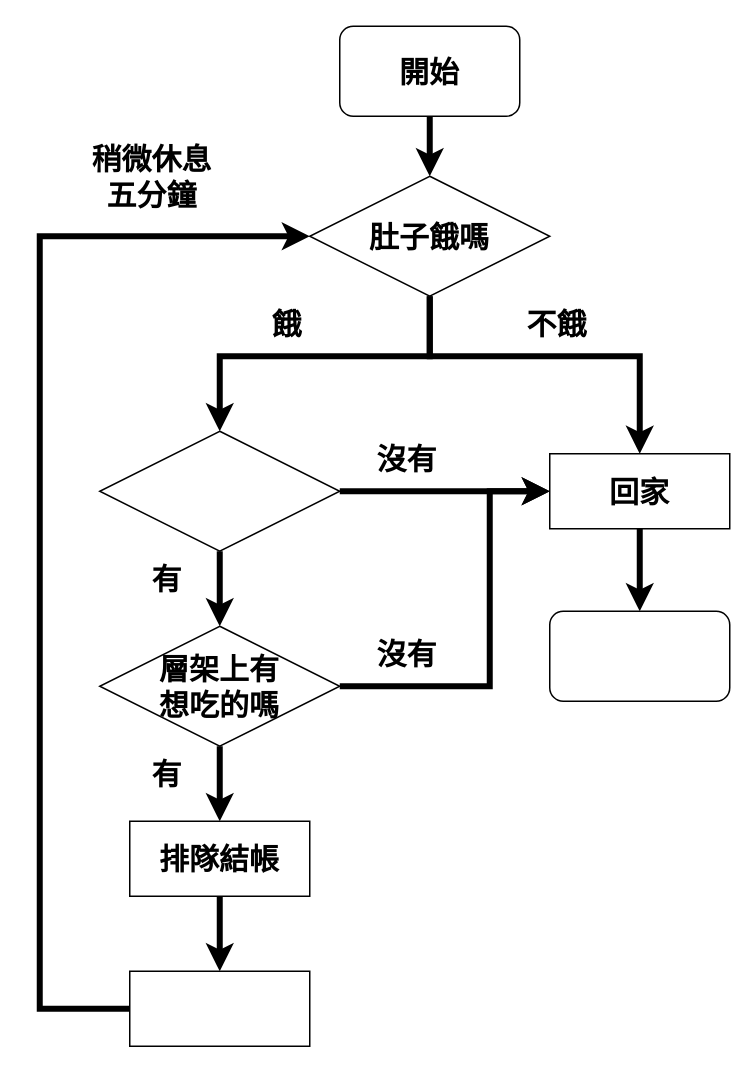
Some shapes in this 756 by 1073 pixel diagram are drawn without their labels. The shapes that lost their labels are listed below. From the top down, each one's centre as x and y in pixels, then its label:
At (219,490): "身上有錢嗎".
At (639,655): "結束".
At (219,1008): "吃下食物".
